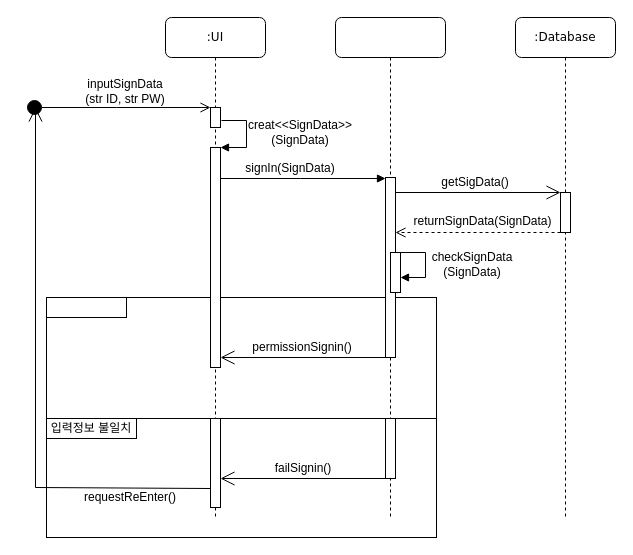
The diagram is 633 pixels wide and 555 high, and some of its shapes have lost their labels. Here are the shapes that lost their labels. From the top down, the box of each, then its label:
(334, 16, 446, 518): :User_Manager
(46, 296, 126, 318): 입력정보 일치
